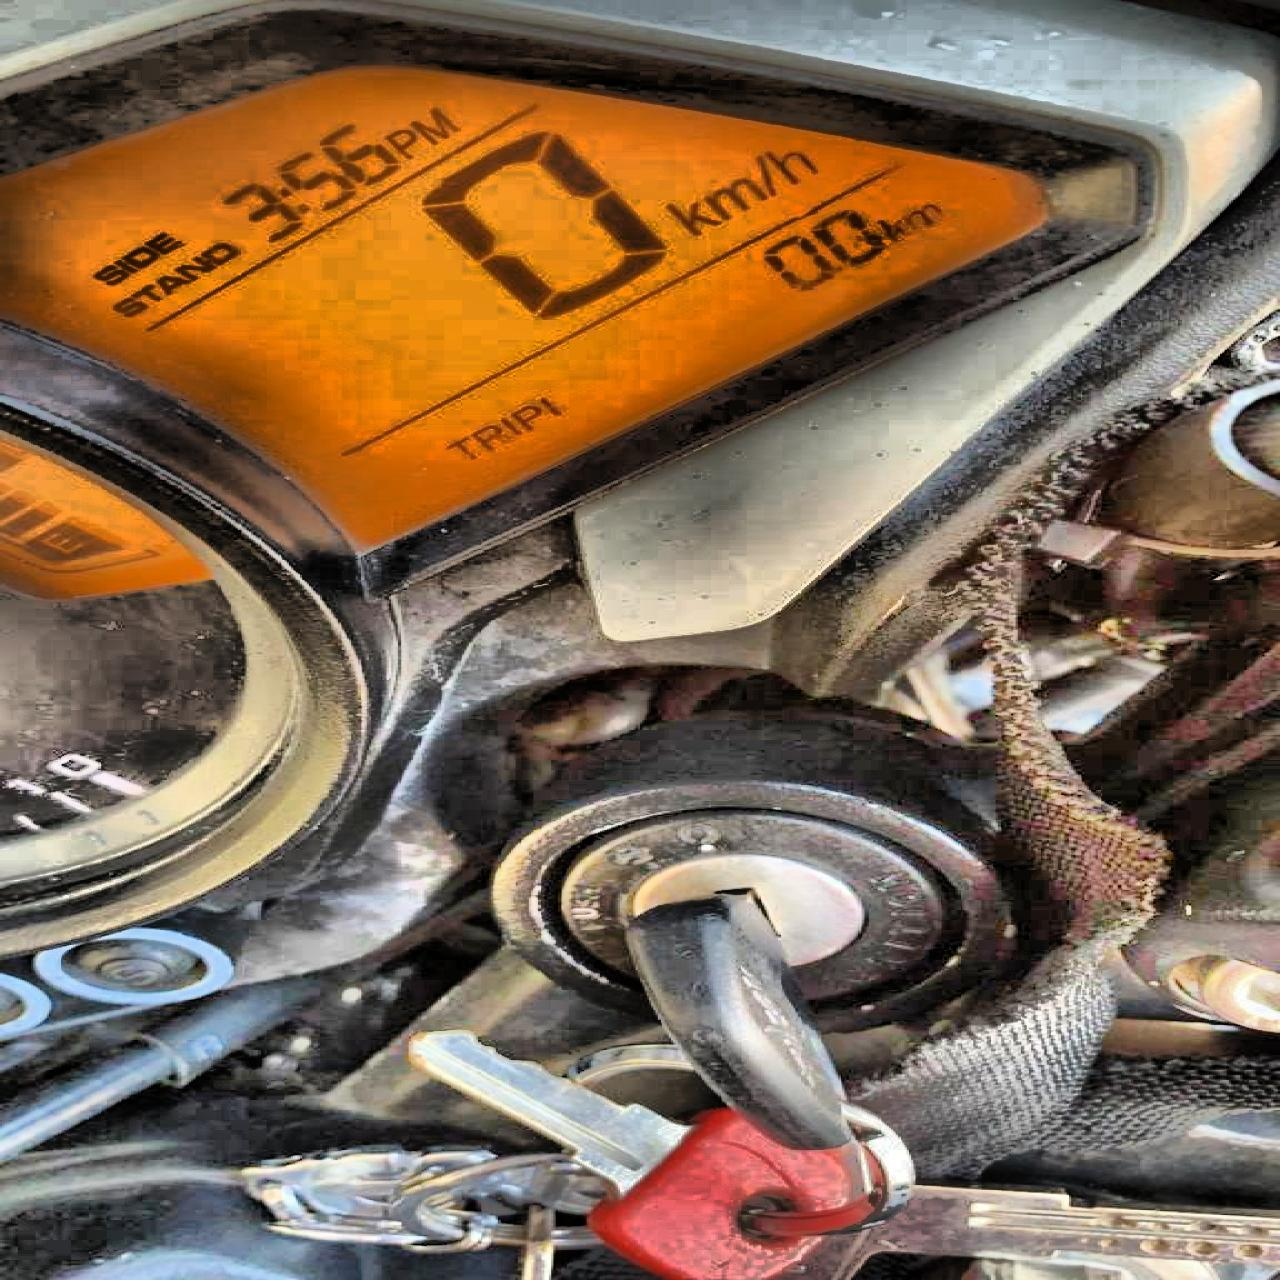-: (831, 261, 845, 272)
0: (417, 130, 665, 319), (806, 207, 880, 264), (760, 234, 831, 290)
1: (536, 396, 558, 416)
3: (218, 181, 300, 241)
5: (271, 151, 353, 207)
6: (315, 123, 395, 184)
X: (407, 105, 454, 165), (700, 176, 762, 219), (762, 147, 816, 183), (662, 199, 714, 234), (751, 151, 776, 197), (271, 185, 309, 213), (904, 202, 938, 227), (384, 129, 415, 157), (173, 257, 211, 279), (876, 213, 905, 241), (121, 245, 156, 267), (509, 403, 538, 429), (469, 424, 498, 450), (144, 231, 178, 252), (154, 274, 189, 294), (203, 243, 236, 264), (444, 436, 474, 459), (111, 297, 144, 316), (89, 265, 122, 284), (131, 282, 159, 302), (496, 416, 517, 435), (111, 258, 132, 272)
odometer: (0, 50, 1087, 574)
